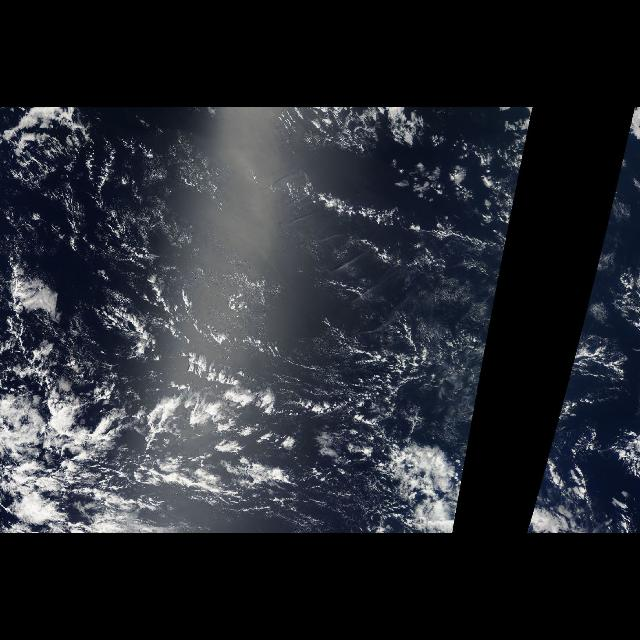Gravel: (3, 117, 453, 533)
Sugar: (297, 244, 505, 442), (81, 135, 229, 257), (552, 260, 638, 442)
